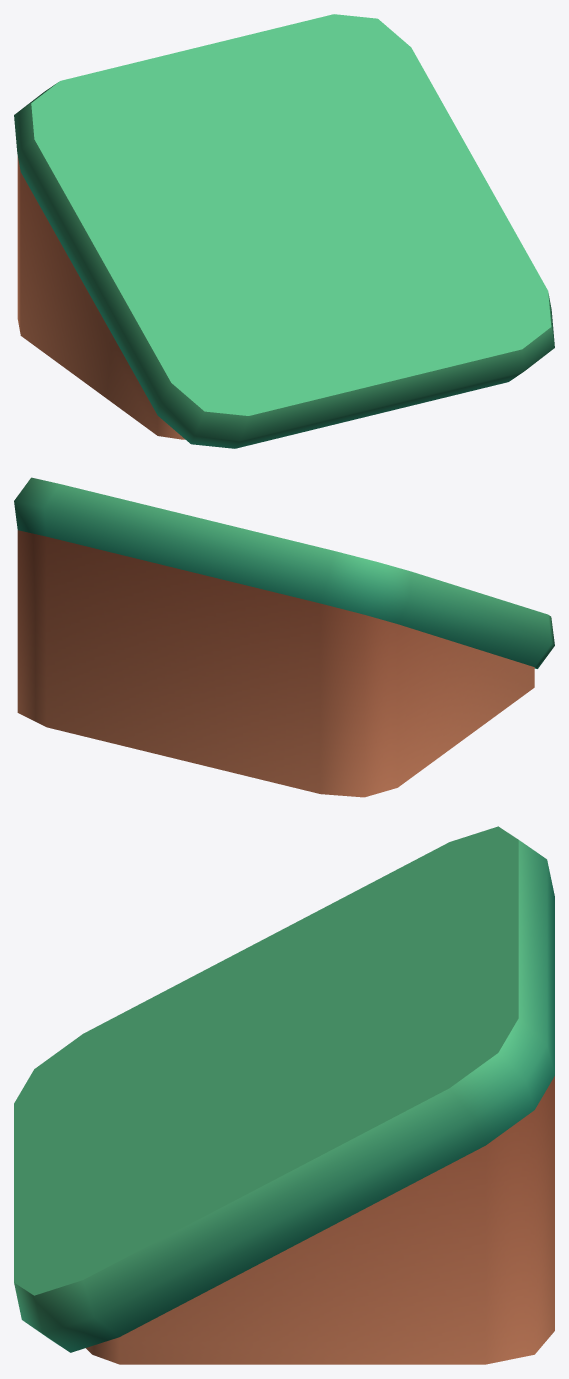
File: block-grass-large-slope-steep.glb
3 views of the same model, one above another, from view 1: azimuth 30°, elevation 25°; view 2: azimuth 150°, elevation 25°; view 3: azimuth 270°, elevation 25° (orthographic). The views are drawn at different scales.
Parts seen in each view (by area): view 1: block-grass-large-slope-steep; view 2: block-grass-large-slope-steep; view 3: block-grass-large-slope-steep.
Part boxes in pixels (<box>): block-grass-large-slope-steep: <box>14,14,554,448</box>; block-grass-large-slope-steep: <box>14,477,554,797</box>; block-grass-large-slope-steep: <box>14,826,554,1364</box>.
Size of the model in its own units: 2.08 by 1.22 by 1.86.
1 material, 1 textured.
